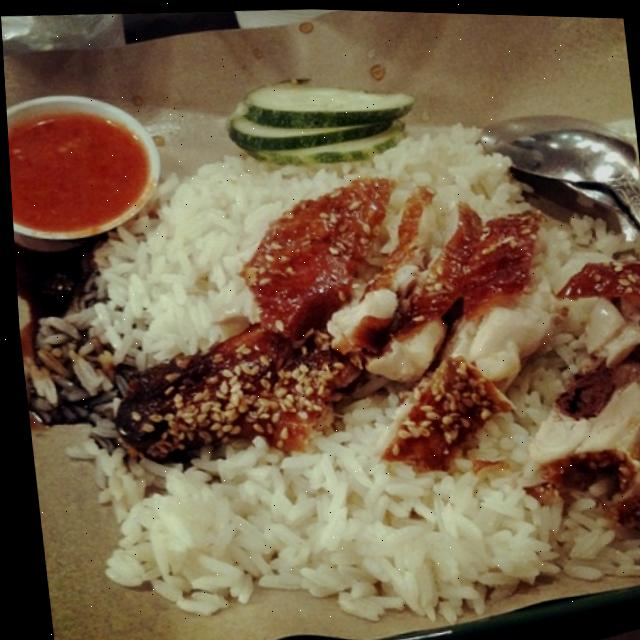米饭主食: (1, 28, 640, 640)
